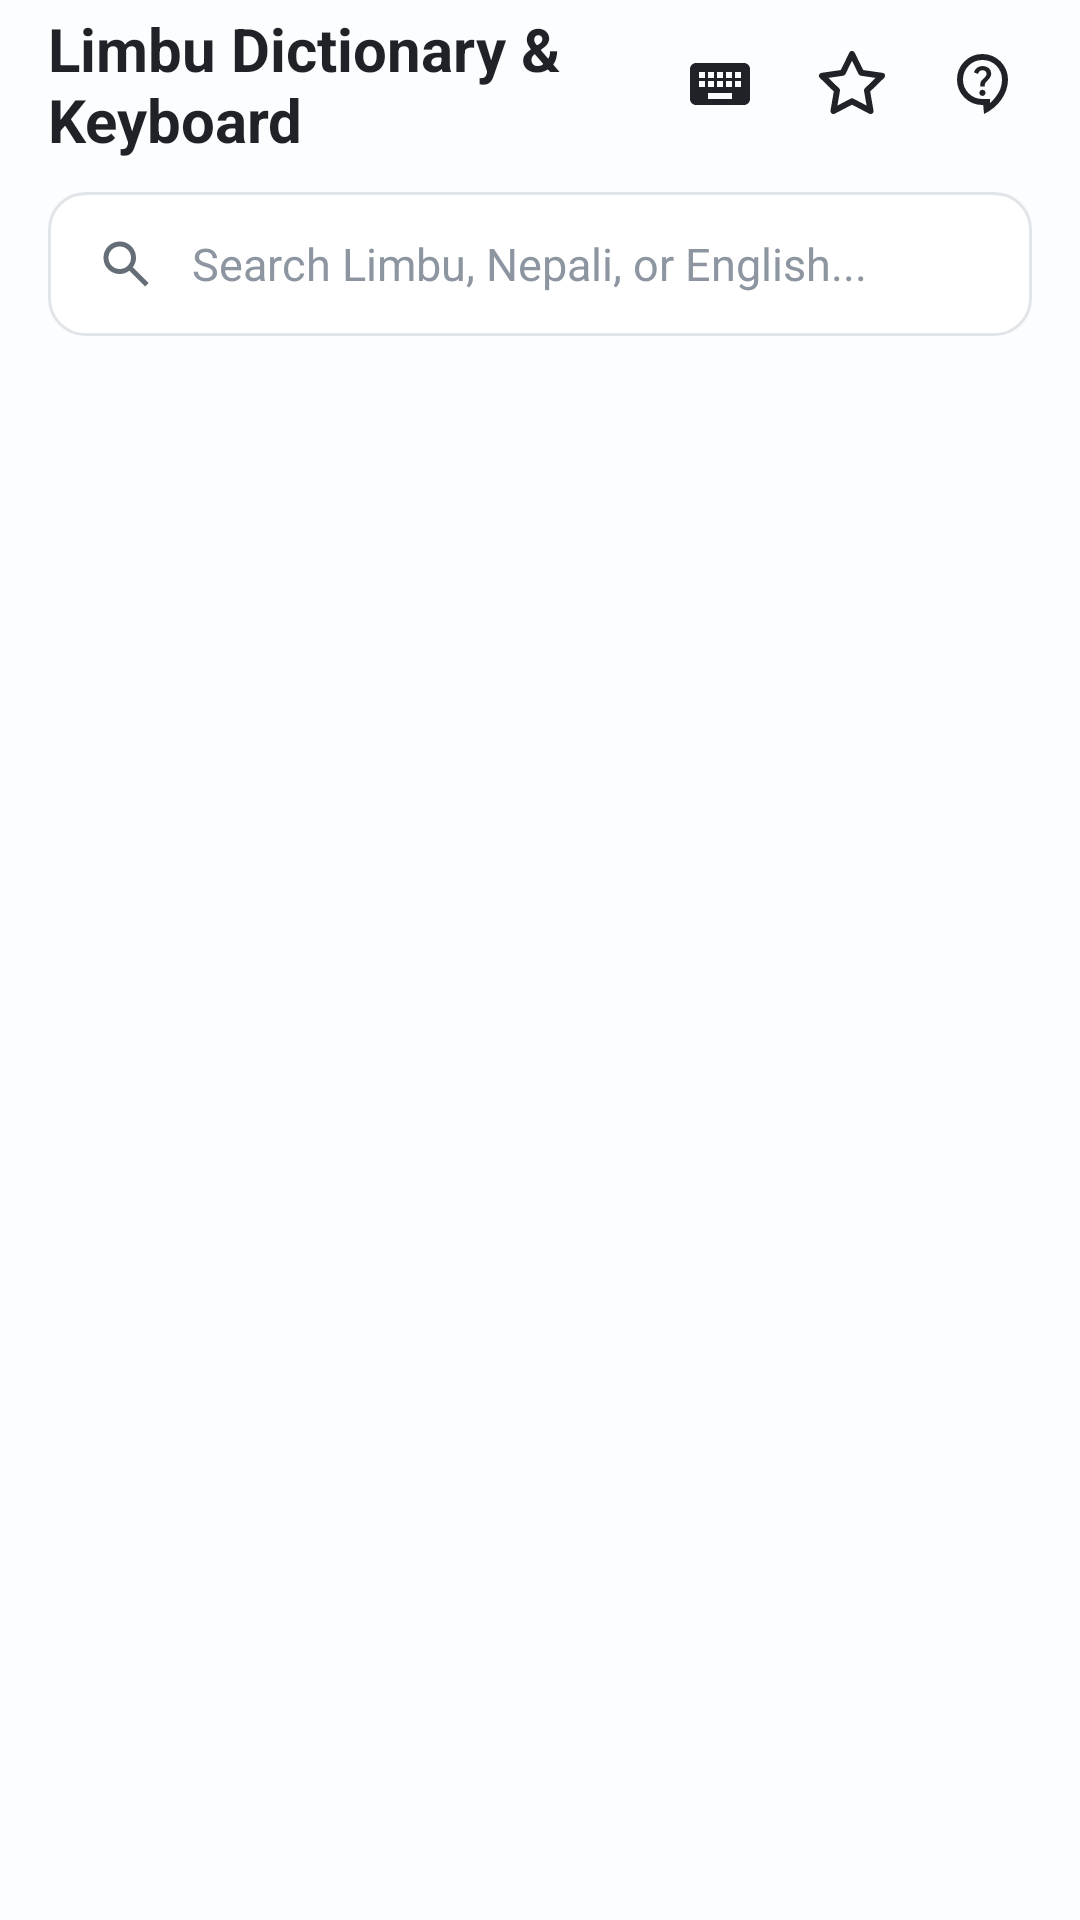

Screen size 1080×1920. Icon name, then its center in pixels as (x=x, y=y):
Bookmarks: (x=851, y=82)
Keyboard Settings: (x=720, y=84)
